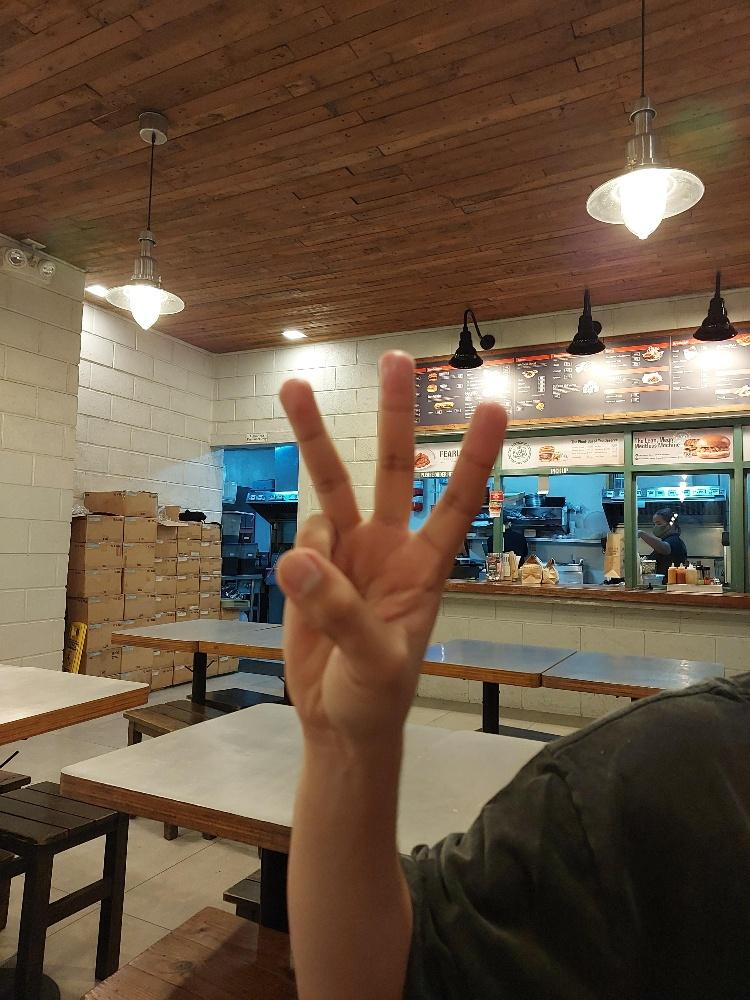w: (271, 346, 508, 736)
